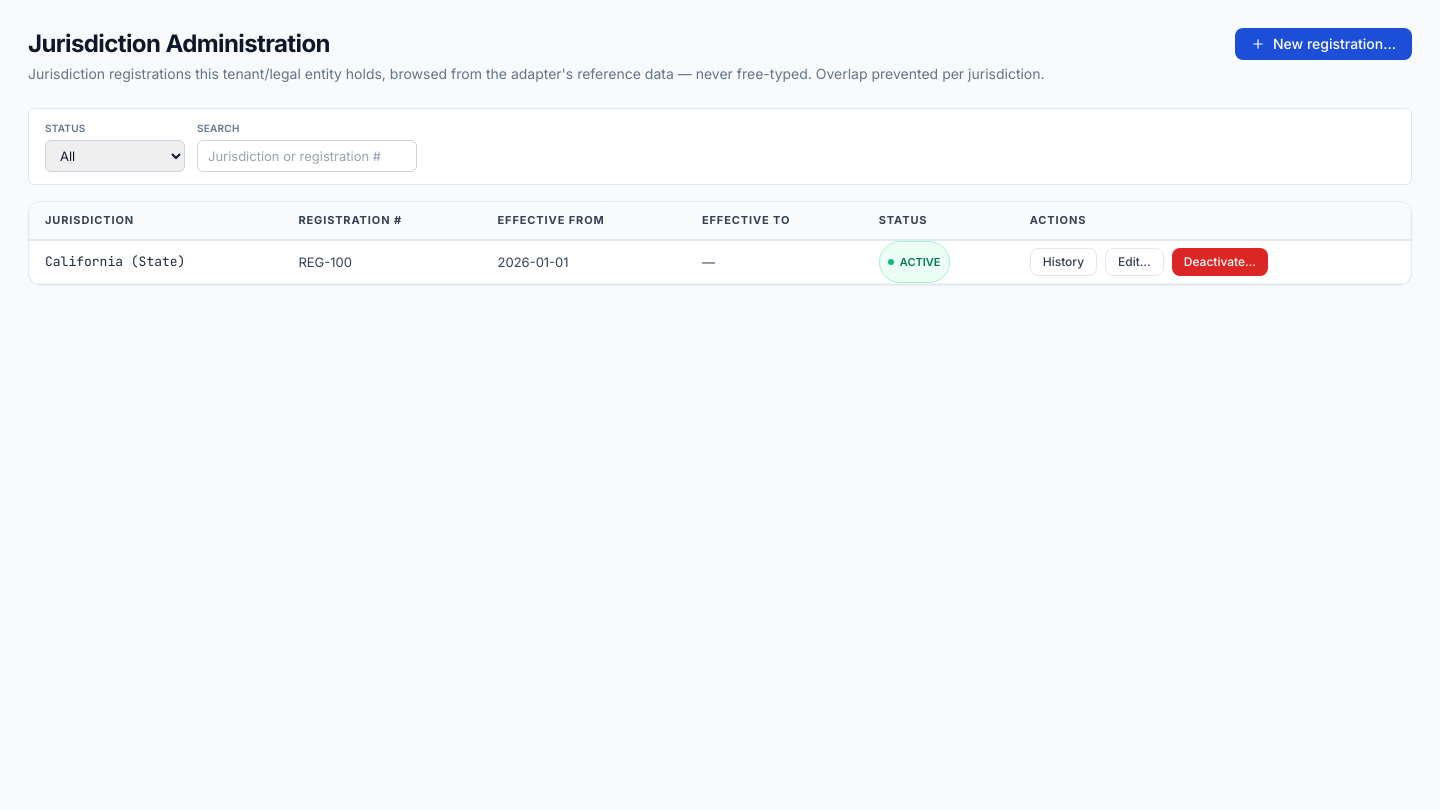
it: TaxJurisdictionAdmin › surfaces an overlap validation failure inline in the drawer
expect the table with test id "tax-jurisdiction-table" is shown: met, box x1=29 y1=202 x2=1411 y2=284
Click the button with test id "tax-jurisdiction-new-btn" at x=1324, y=44, box x1=1235 y1=28 x2=1412 y2=60
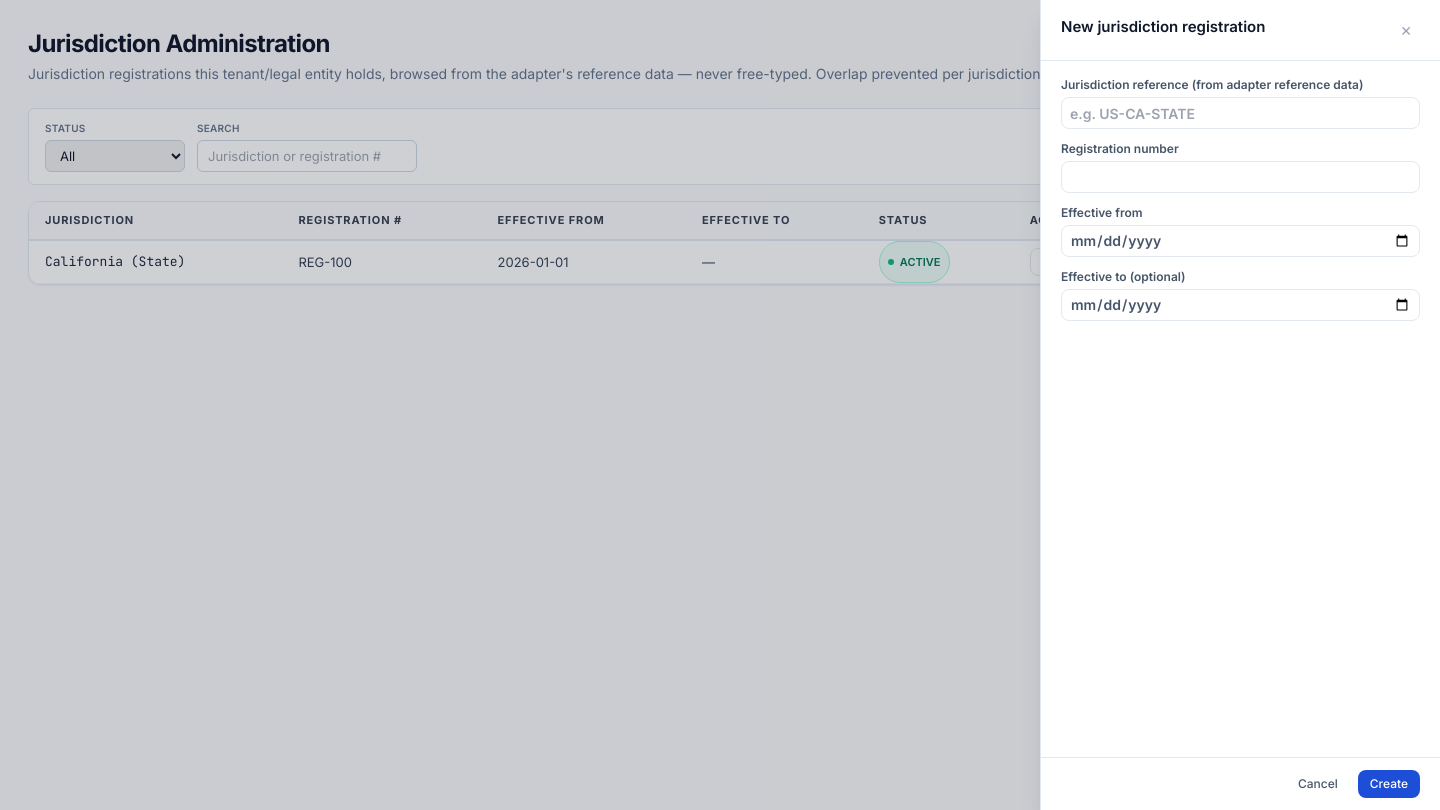
Type "US-CA-STATE" into the field with test id "tax-jurisdiction-ref-input" at x=1240, y=113, box x1=1061 y1=97 x2=1420 y2=129
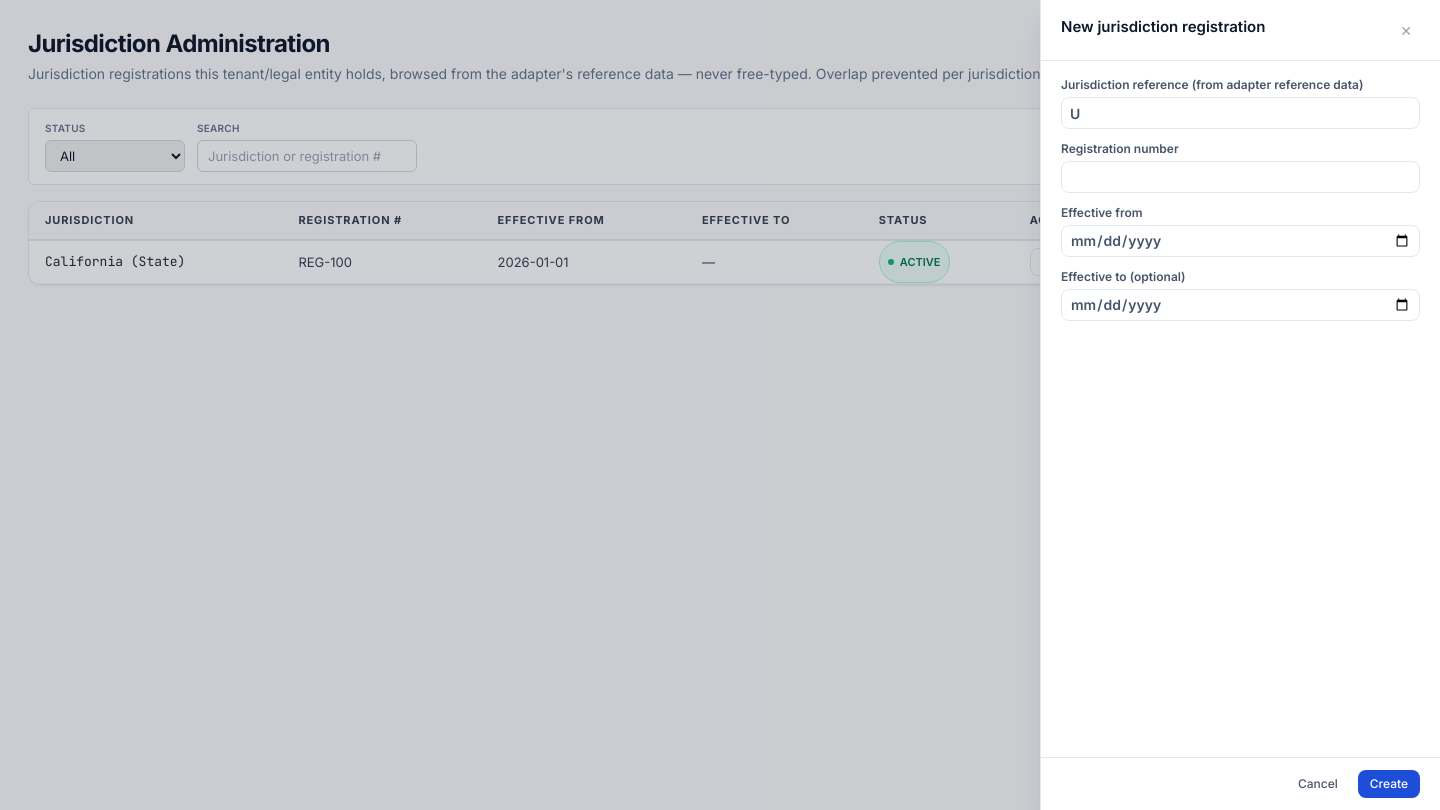
Type "2026-06-01" into the date field with test id "tax-jurisdiction-effective-from-input" at x=1240, y=241, box x1=1061 y1=225 x2=1420 y2=257
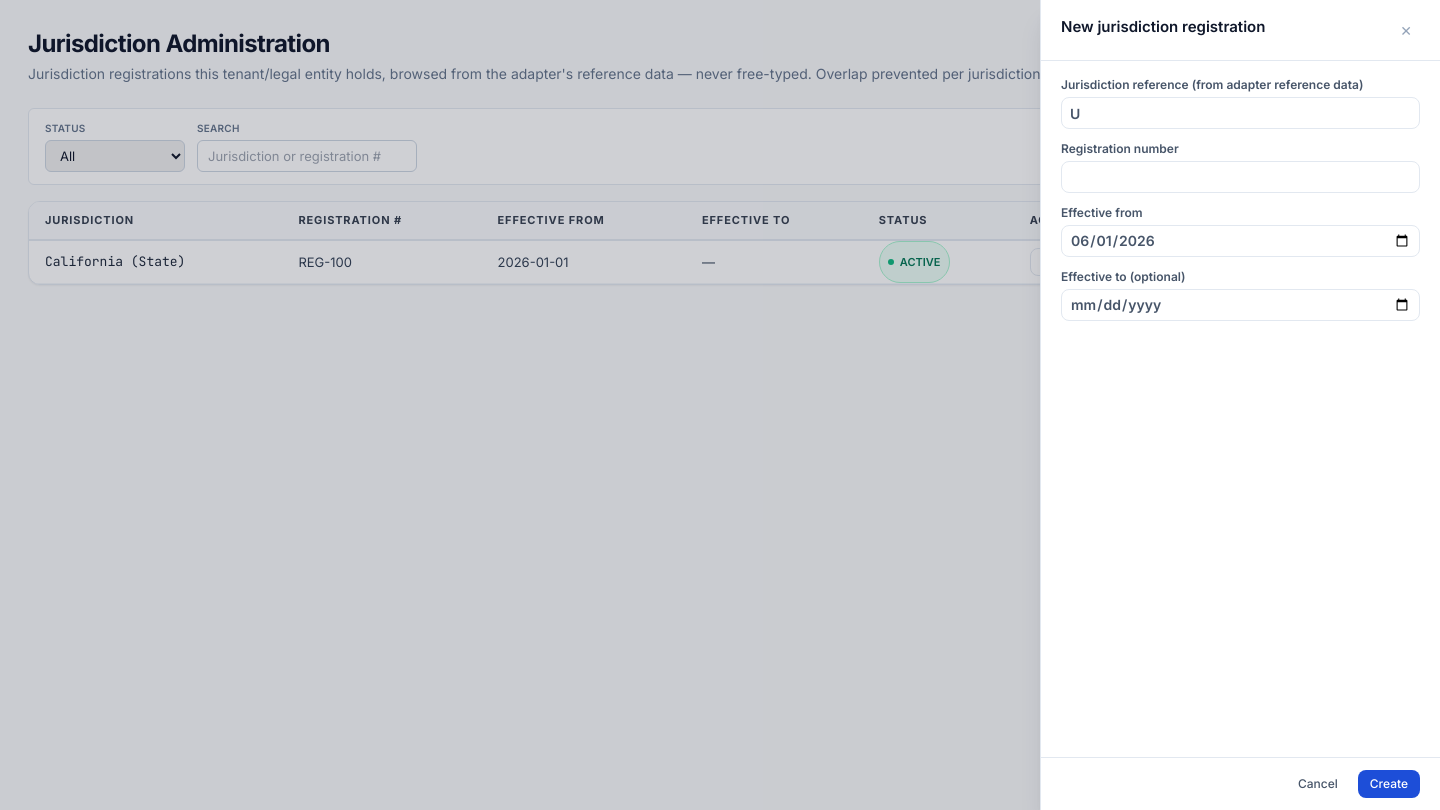
Click the button with test id "tax-jurisdiction-drawer-submit" at x=1389, y=784, box x1=1358 y1=770 x2=1420 y2=798
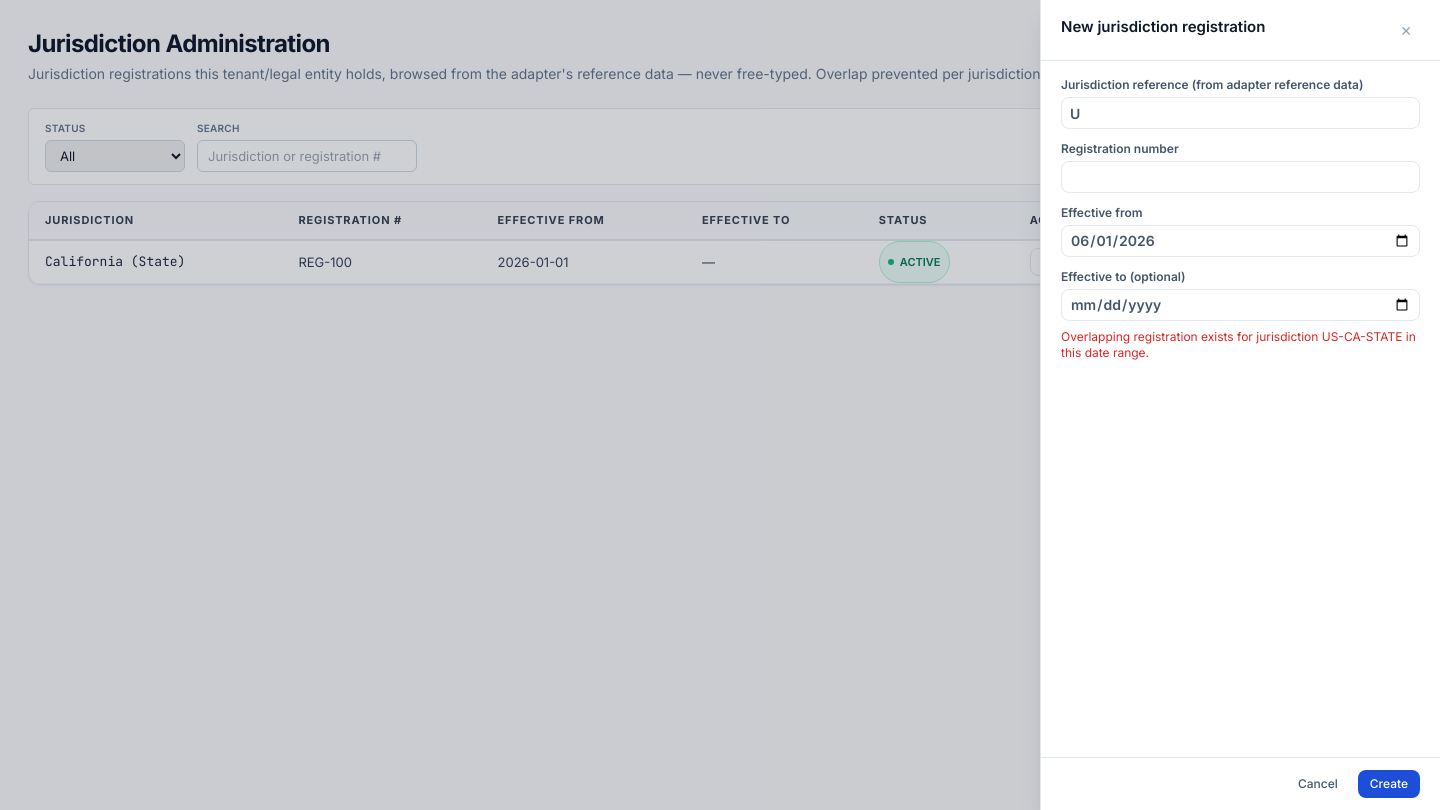
expect the text with test id "tax-jurisdiction-drawer-message" shows "Overlapping registration": met, box x1=1061 y1=329 x2=1416 y2=360
